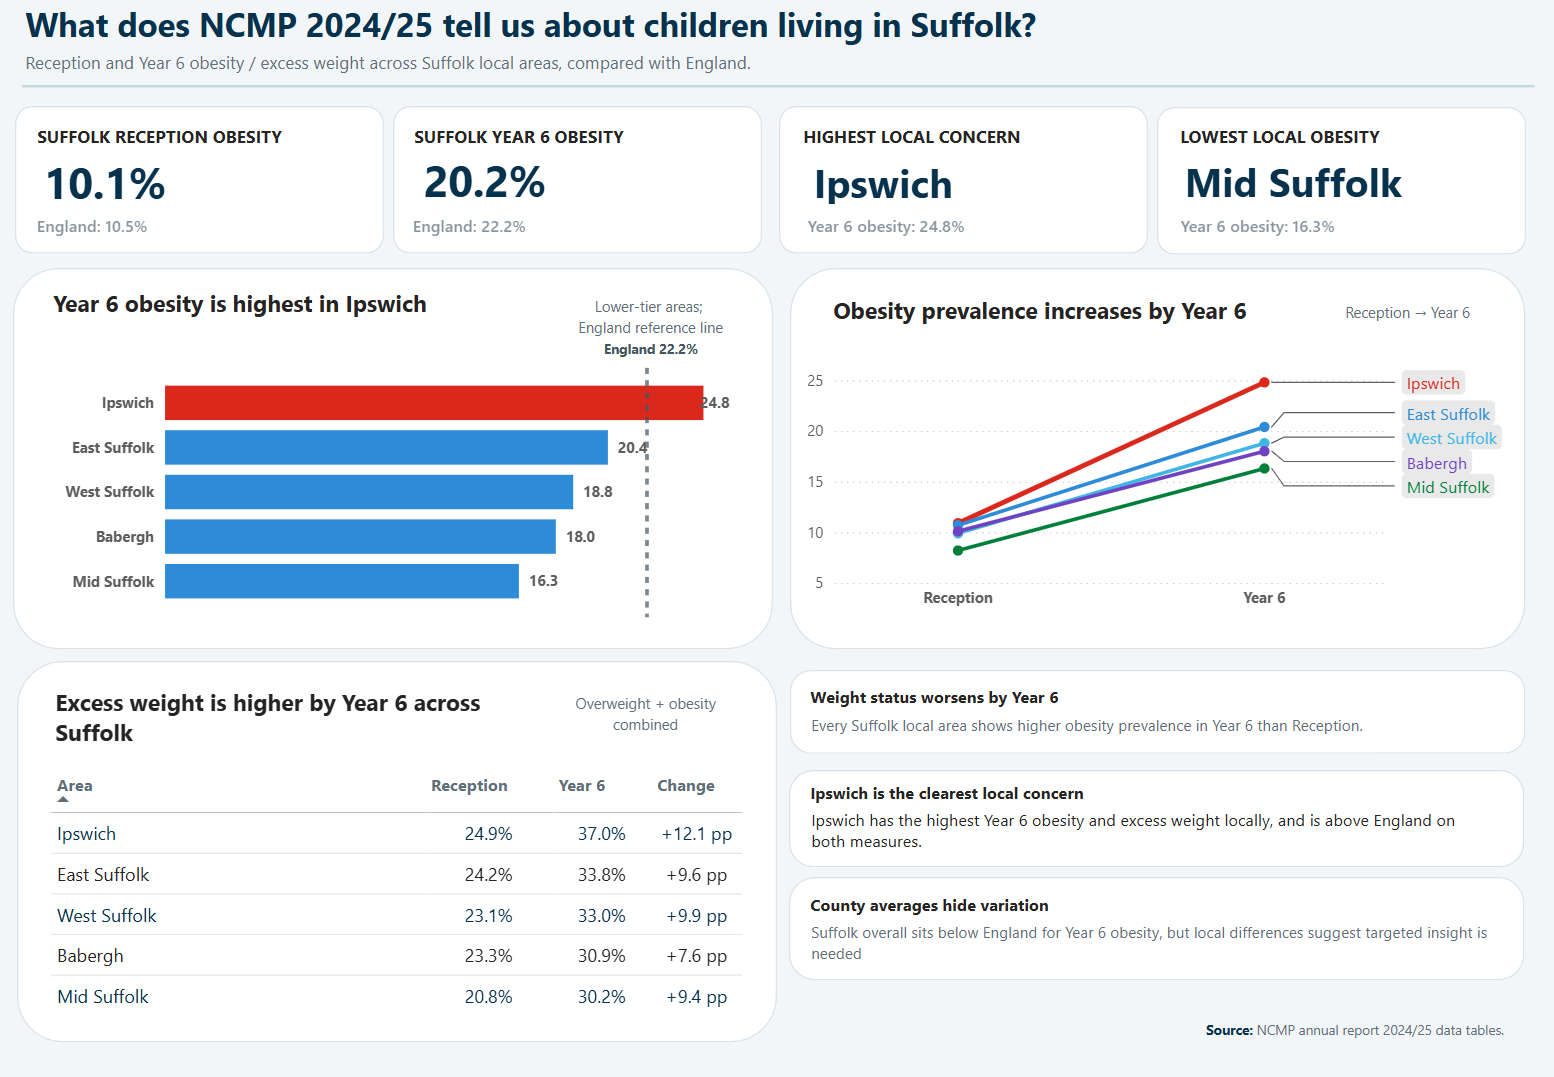

The page's visual inventory and layout, read from the dashboard file:
{"tool":"powerbi","page":{"name":"Page 1","canvas":[1280,920],"ordinal":0},"visuals":[{"type":"shape","box":[20,546,618,310],"z":0},{"type":"shape","box":[17,226,618,310],"z":1000},{"type":"textbox","box":[22,4,959,64],"z":2000},{"type":"textbox","box":[22,44,617,42],"z":3000},{"type":"shape","box":[24,58,1230,41],"z":4000},{"type":"shape","box":[19,94,300,120],"z":5000},{"type":"shape","box":[326,94,300,120],"z":6000},{"type":"shape","box":[640,94,300,120],"z":7000},{"type":"shape","box":[947,95,300,120],"z":8000},{"type":"clusteredBarChart","fields":{"Category":["ncmp_suffolk_powerbi_ready.AreaName"],"Y":["Sum(ncmp_suffolk_powerbi_ready.ObesityPct)"]},"box":[45,286,568,237],"z":9000},{"type":"shape","box":[649,226,598,310],"z":10000},{"type":"lineChart","fields":{"Category":["ncmp_suffolk_powerbi_ready.YearGroup"],"Y":["Sum(ncmp_suffolk_powerbi_ready.ObesityPct)"],"Series":["ncmp_suffolk_powerbi_ready.AreaName"]},"box":[658,295,580,217],"z":11000},{"type":"textbox","box":[45,237,372,41],"z":12000},{"type":"textbox","box":[32,104,219,33],"z":13000},{"type":"textbox","box":[338,104,198,33],"z":14000},{"type":"textbox","box":[655,104,210,33],"z":15000},{"type":"textbox","box":[961,104,190,33],"z":16000},{"type":"textbox","box":[679,242,372,41],"z":17000},{"type":"textbox","box":[452,243,167,84],"z":18000},{"type":"textbox","box":[1095,248,117,50],"z":19000},{"type":"cardVisual","fields":{"Data":["ncmp_suffolk_powerbi_ready.KPI 1 Value"]},"box":[13,121,167,67],"z":20000},{"type":"cardVisual","fields":{"Data":["ncmp_suffolk_powerbi_ready.KPI 2 Value"]},"box":[322,120,159,65],"z":21000},{"type":"cardVisual","fields":{"Data":["ncmp_suffolk_powerbi_ready.Highest Local Year 6 Obesity Area"]},"box":[639,117,173,74],"z":22000},{"type":"cardVisual","fields":{"Data":["ncmp_suffolk_powerbi_ready.Lowest Local Year 6 Obesity Area"]},"box":[941,119,254,70],"z":23000},{"type":"cardVisual","fields":{"Data":["ncmp_suffolk_powerbi_ready.KPI 1 Subtext"]},"box":[7,161,199,58],"z":24000},{"type":"cardVisual","fields":{"Data":["ncmp_suffolk_powerbi_ready.KPI 2 Subtext"]},"box":[313,161,300,59],"z":25000},{"type":"cardVisual","fields":{"Data":["ncmp_suffolk_powerbi_ready.KPI 3 Subtext"]},"box":[634,161,300,59],"z":26000},{"type":"cardVisual","fields":{"Data":["ncmp_suffolk_powerbi_ready.KPI 4 Subtext"]},"box":[938,161,300,59],"z":27000},{"type":"tableEx","fields":{"Values":["ncmp_suffolk_powerbi_ready.AreaName","ncmp_suffolk_powerbi_ready.Reception Excess Weight Display","ncmp_suffolk_powerbi_ready.Year 6 Excess Weight Display","ncmp_suffolk_powerbi_ready.Excess Weight Change Display"]},"box":[31,616,595,280],"z":28000},{"type":"textbox","box":[46,561,406,80],"z":29000},{"type":"textbox","box":[448,566,167,63],"z":30000},{"type":"shape","box":[649,553,598,68],"z":31000},{"type":"textbox","box":[660,561,224,31],"z":32000},{"type":"textbox","box":[661,584,465,36],"z":33000},{"type":"shape","box":[648,634,598,79],"z":34000},{"type":"textbox","box":[660,639,258,31],"z":35000},{"type":"textbox","box":[661,661,562,50],"z":36000},{"type":"shape","box":[648,721,598,84],"z":37000},{"type":"textbox","box":[660,730,258,31],"z":38000},{"type":"textbox","box":[661,752,570,45],"z":39000},{"type":"textbox","box":[938,831,300,35],"z":40000}]}

Visuals, with their boxes on the page's 1280x920 design canvas (x1, y1, x2, y2). These are canvas units, not pixel positions in the 1554x1077 screenshot, which may show the page scaled, cropped or inside an application window:
shape: box(20, 546, 638, 856)
shape: box(17, 226, 635, 536)
textbox: box(22, 4, 981, 68)
textbox: box(22, 44, 639, 86)
shape: box(24, 58, 1254, 99)
shape: box(19, 94, 319, 214)
shape: box(326, 94, 626, 214)
shape: box(640, 94, 940, 214)
shape: box(947, 95, 1247, 215)
clusteredBarChart - ncmp_suffolk_powerbi_ready.AreaName x Sum(ncmp_suffolk_powerbi_ready.ObesityPct): box(45, 286, 613, 523)
shape: box(649, 226, 1247, 536)
lineChart - ncmp_suffolk_powerbi_ready.YearGroup x Sum(ncmp_suffolk_powerbi_ready.ObesityPct): box(658, 295, 1238, 512)
textbox: box(45, 237, 417, 278)
textbox: box(32, 104, 251, 137)
textbox: box(338, 104, 536, 137)
textbox: box(655, 104, 865, 137)
textbox: box(961, 104, 1151, 137)
textbox: box(679, 242, 1051, 283)
textbox: box(452, 243, 619, 327)
textbox: box(1095, 248, 1212, 298)
cardVisual - ncmp_suffolk_powerbi_ready.KPI 1 Value: box(13, 121, 180, 188)
cardVisual - ncmp_suffolk_powerbi_ready.KPI 2 Value: box(322, 120, 481, 185)
cardVisual - ncmp_suffolk_powerbi_ready.Highest Local Year 6 Obesity Area: box(639, 117, 812, 191)
cardVisual - ncmp_suffolk_powerbi_ready.Lowest Local Year 6 Obesity Area: box(941, 119, 1195, 189)
cardVisual - ncmp_suffolk_powerbi_ready.KPI 1 Subtext: box(7, 161, 206, 219)
cardVisual - ncmp_suffolk_powerbi_ready.KPI 2 Subtext: box(313, 161, 613, 220)
cardVisual - ncmp_suffolk_powerbi_ready.KPI 3 Subtext: box(634, 161, 934, 220)
cardVisual - ncmp_suffolk_powerbi_ready.KPI 4 Subtext: box(938, 161, 1238, 220)
tableEx - ncmp_suffolk_powerbi_ready.AreaName x ncmp_suffolk_powerbi_ready.Reception Excess Weight Display: box(31, 616, 626, 896)
textbox: box(46, 561, 452, 641)
textbox: box(448, 566, 615, 629)
shape: box(649, 553, 1247, 621)
textbox: box(660, 561, 884, 592)
textbox: box(661, 584, 1126, 620)
shape: box(648, 634, 1246, 713)
textbox: box(660, 639, 918, 670)
textbox: box(661, 661, 1223, 711)
shape: box(648, 721, 1246, 805)
textbox: box(660, 730, 918, 761)
textbox: box(661, 752, 1231, 797)
textbox: box(938, 831, 1238, 866)
